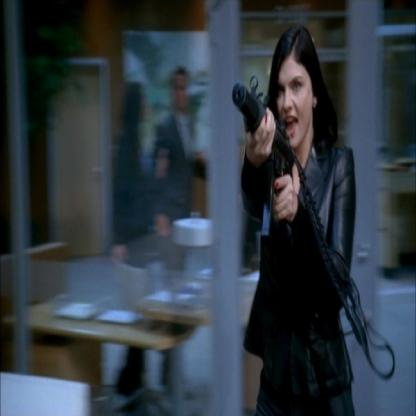Gun: (231, 68, 301, 248)
